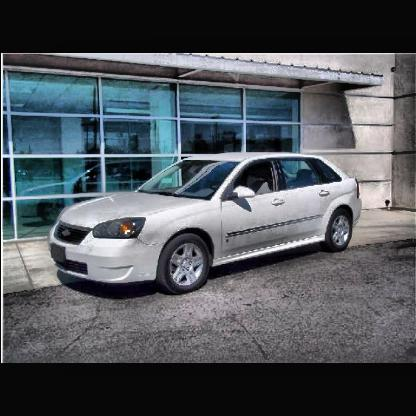Chevrolet Malibu Sedan 2007: (50, 155, 360, 294)
